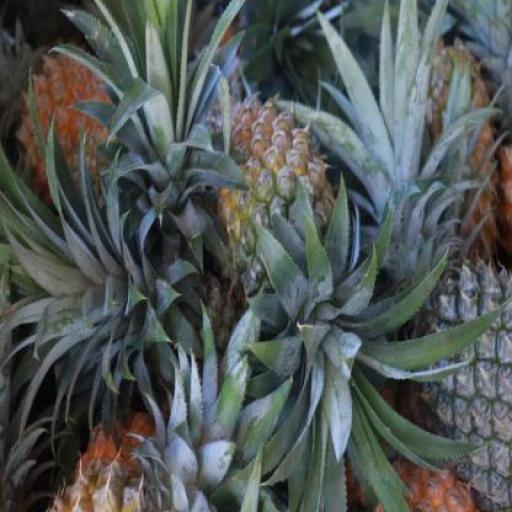------------------------------: (207, 95, 346, 305)
